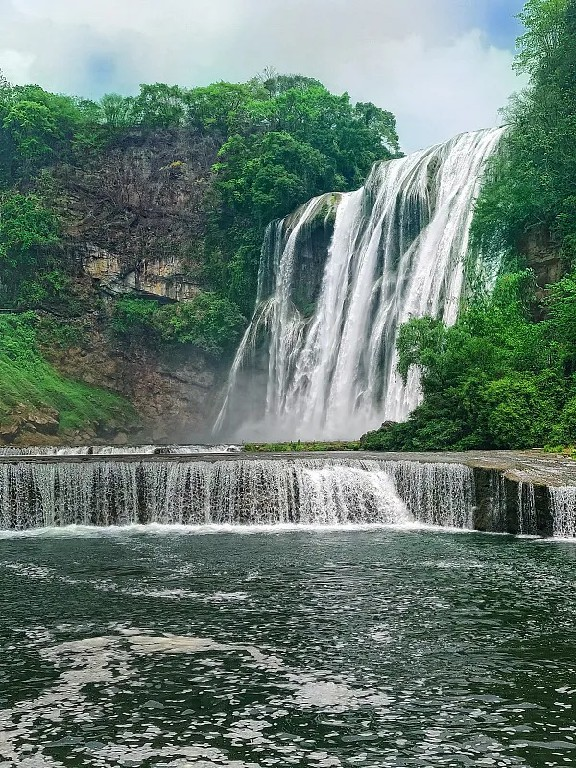Huangguoshu: (216, 124, 499, 444)
